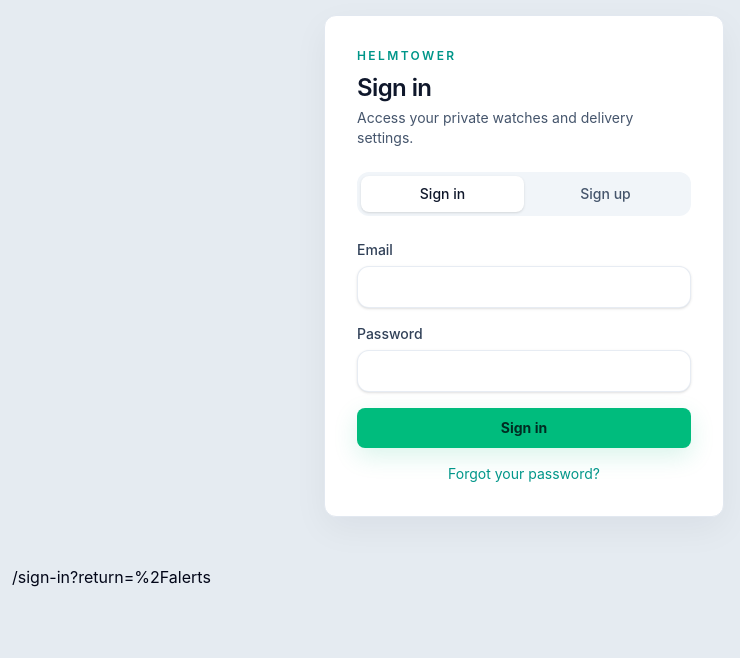
Test case: SignIn return navigation › stays on sign-in and shows API detail when login fails
Type "user@example.com" into the field labelled "Email".
click(524, 287); type("user@example.com")  # box left=357, top=266, right=691, bottom=308
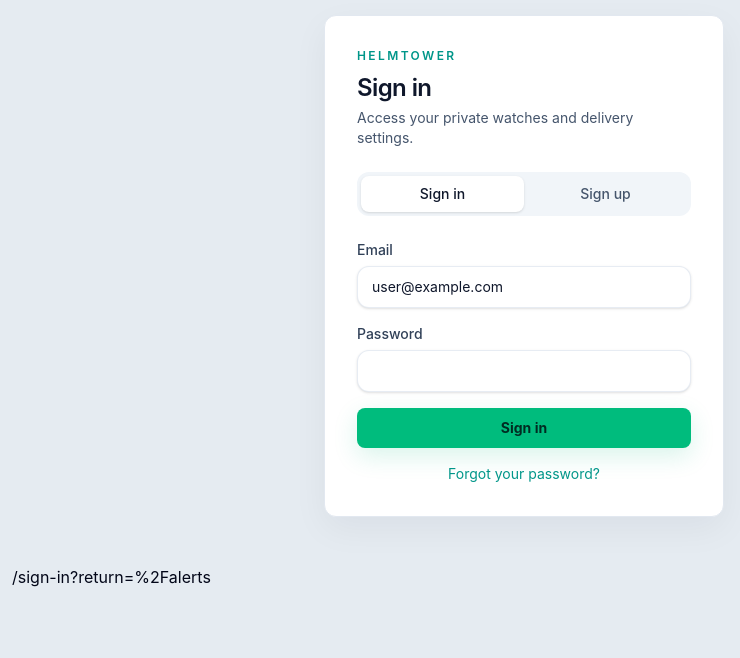
Type "password123" into the password field labelled "Password".
click(524, 371); type("password123")  # box left=357, top=350, right=691, bottom=392
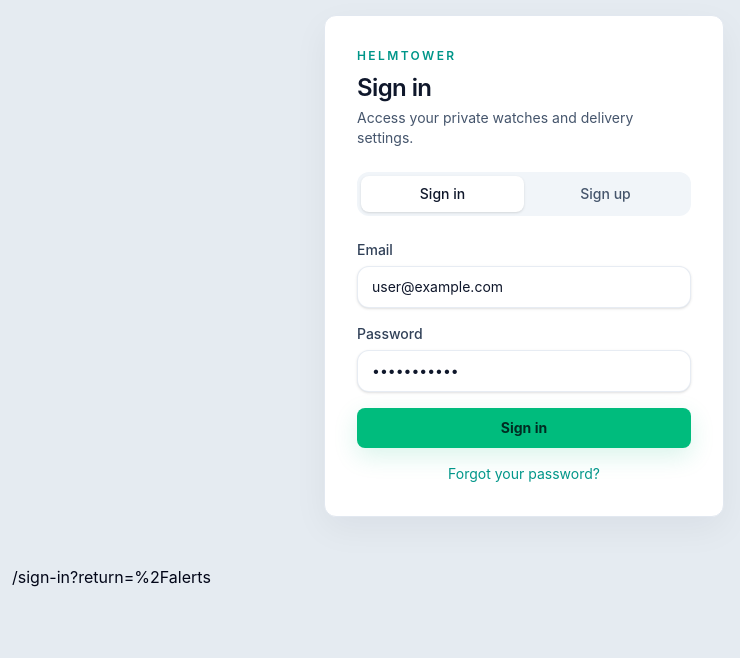
Submit the form named "Authentication form", box left=357, top=240, right=691, bottom=484
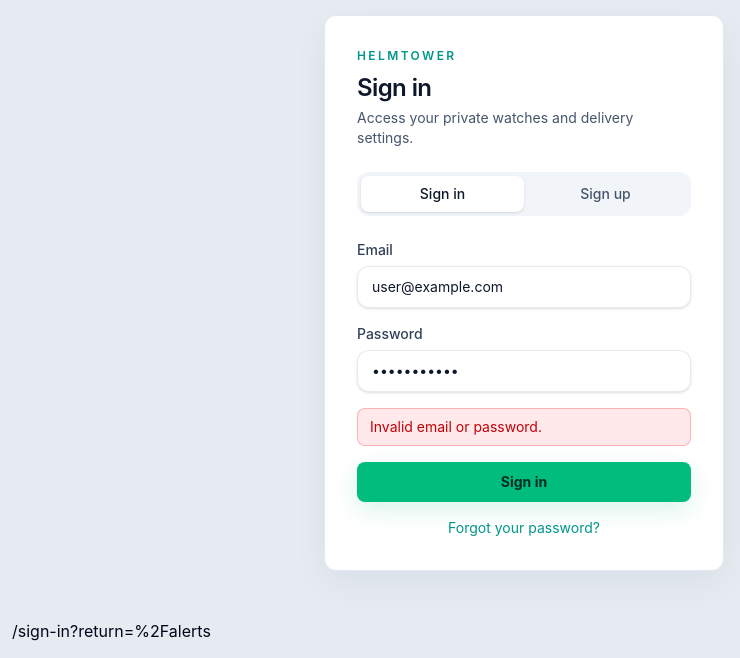
Expected: the text with test id "location" reads "/sign-in?return=%2Falerts", left=12, top=621, right=211, bottom=641
Expected: the text "Invalid email or password." is shown, left=357, top=408, right=691, bottom=446
